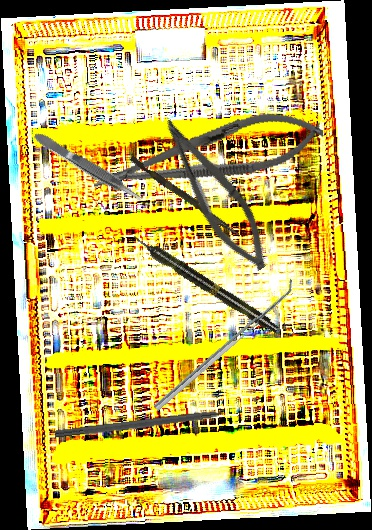Handpiece: (129, 230, 282, 337)
Hook Surgical: (54, 406, 245, 441)
Micro Scissor: (145, 111, 284, 279)
Needle Holder: (86, 99, 329, 210)
Pusher: (127, 155, 244, 238)
Spatula Surgical: (148, 277, 300, 412)
Tissue Forceps: (31, 127, 147, 208)
